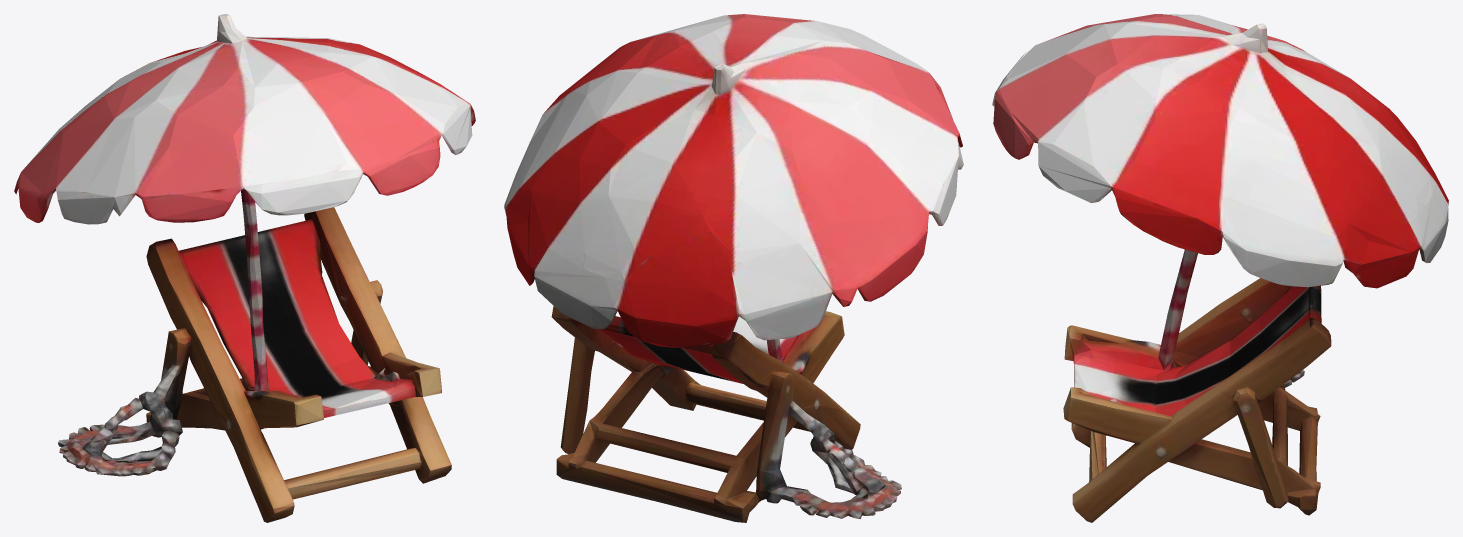
File: parasol.glb
The picture shows the model from 3 angles, left to right: view 1: azimuth 30°, elevation 25°; view 2: azimuth 150°, elevation 25°; view 3: azimuth 270°, elevation 25°; orthographic projection.
Parts seen in each view (by area): view 1: geometry_0; view 2: geometry_0; view 3: geometry_0.
Part boxes in pixels (<box>): geometry_0: <box>14,14,475,522</box>; geometry_0: <box>504,14,963,522</box>; geometry_0: <box>992,14,1448,522</box>.
Size of the model in its own units: 0.8568 by 0.9137 by 0.8683.
1 material, 1 textured.
